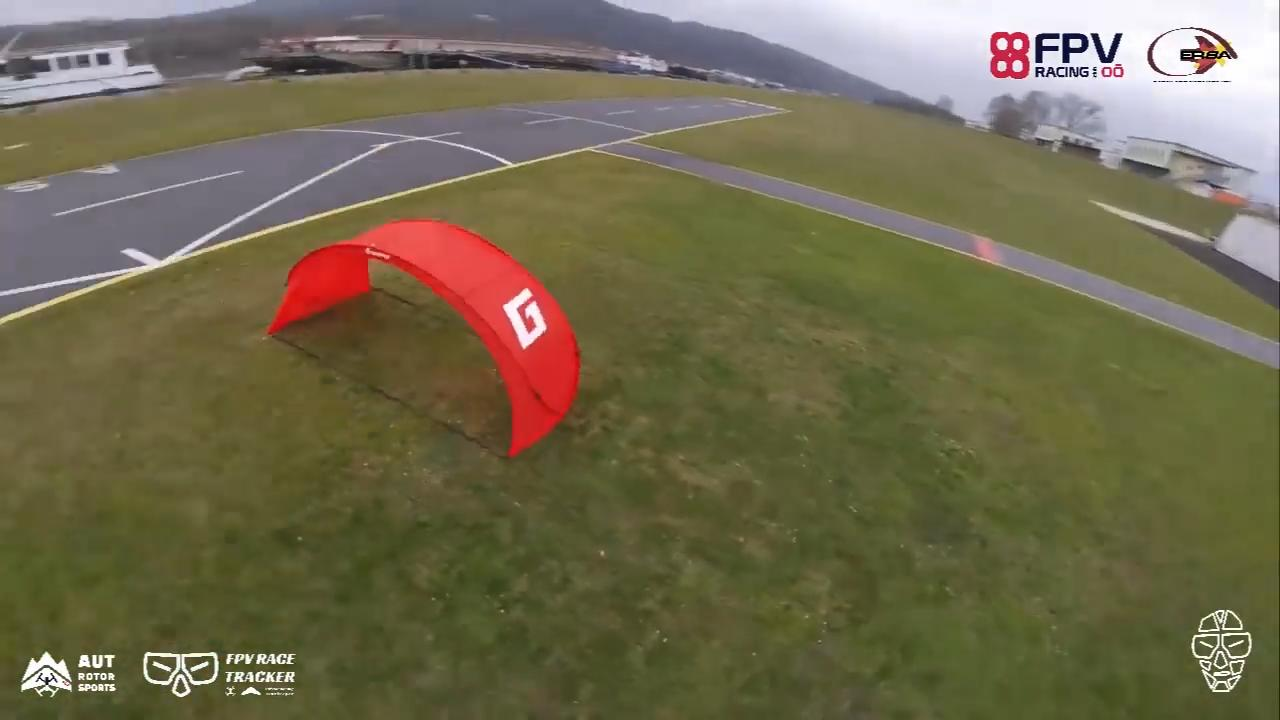gate: (265, 216, 579, 467)
